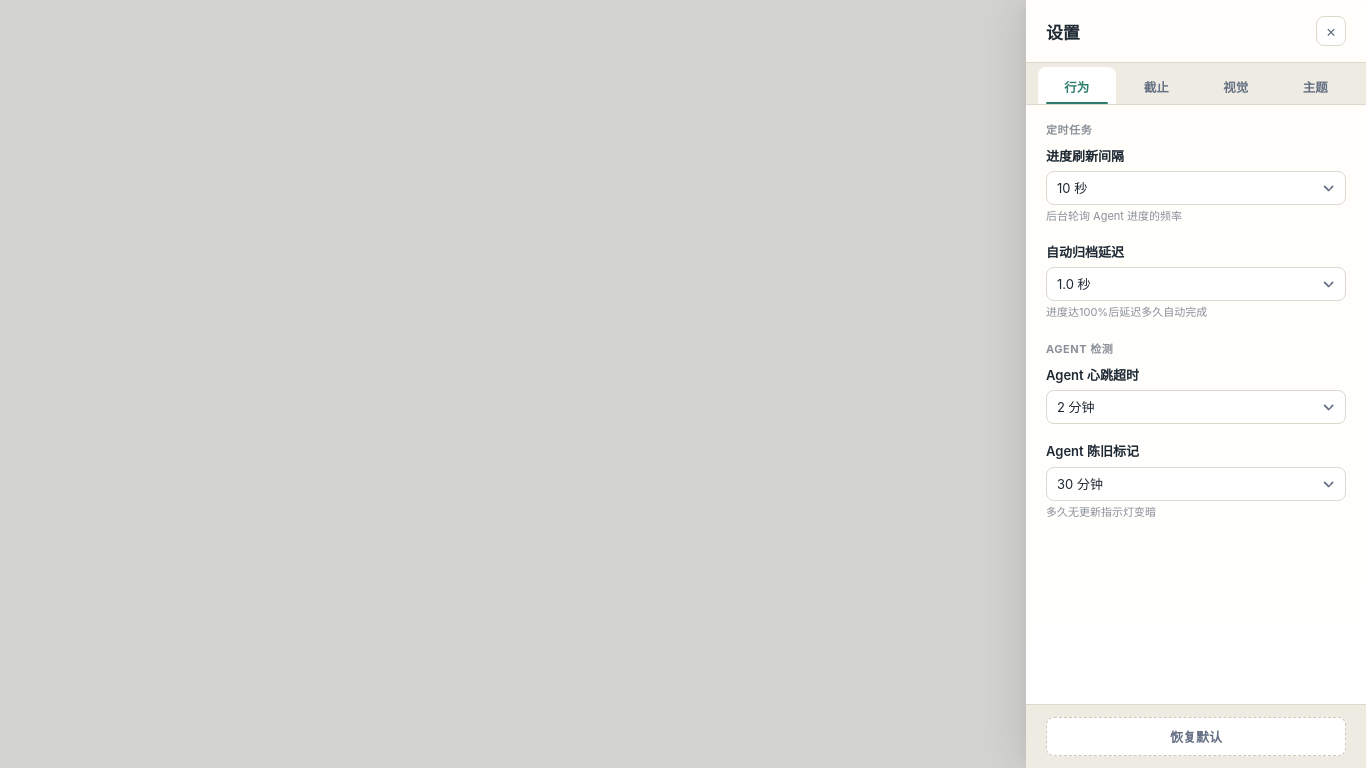
SettingsDrawer › switches tabs on click
Expected: the text "进度刷新间隔" is shown, [1046,148,1124,164]
Click the button "截止". click: (1156, 86)
box: [1118,67,1195,104]
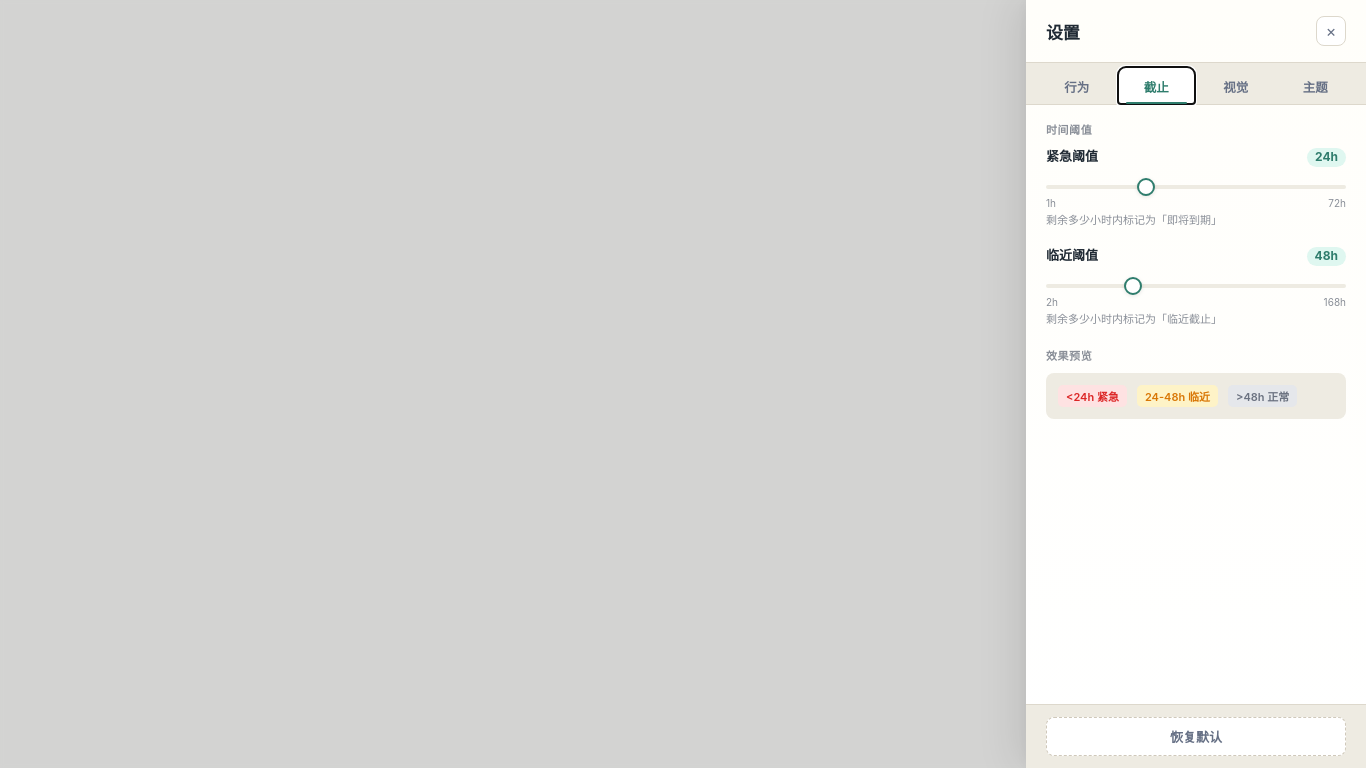
Now the text "紧急阈值" is shown, box [1046,148,1098,164]
Click the button "视觉". click: (1236, 86)
box: [1197,67,1274,104]
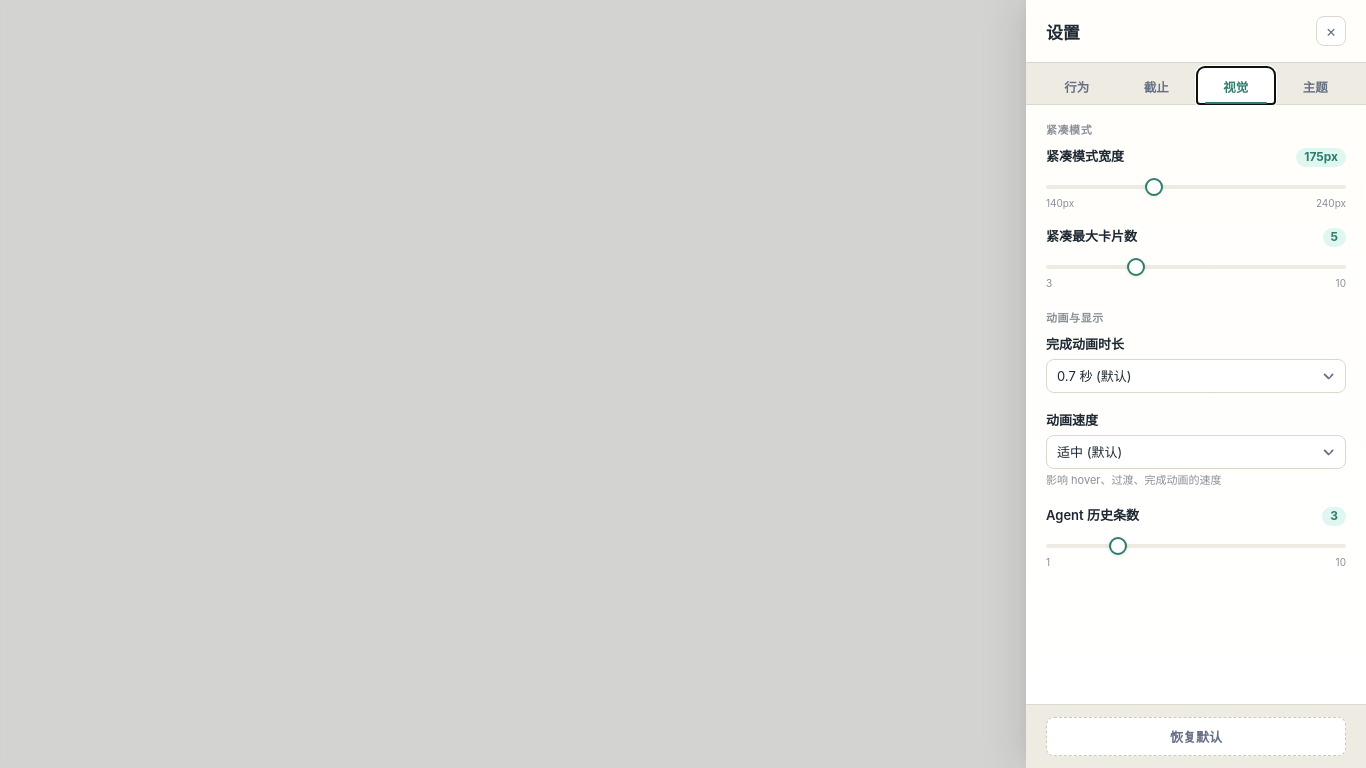
Now the text "紧凑模式宽度" is shown, box [1046,148,1124,164]
Click the button "主题". click: (1315, 86)
box: [1276,67,1354,104]
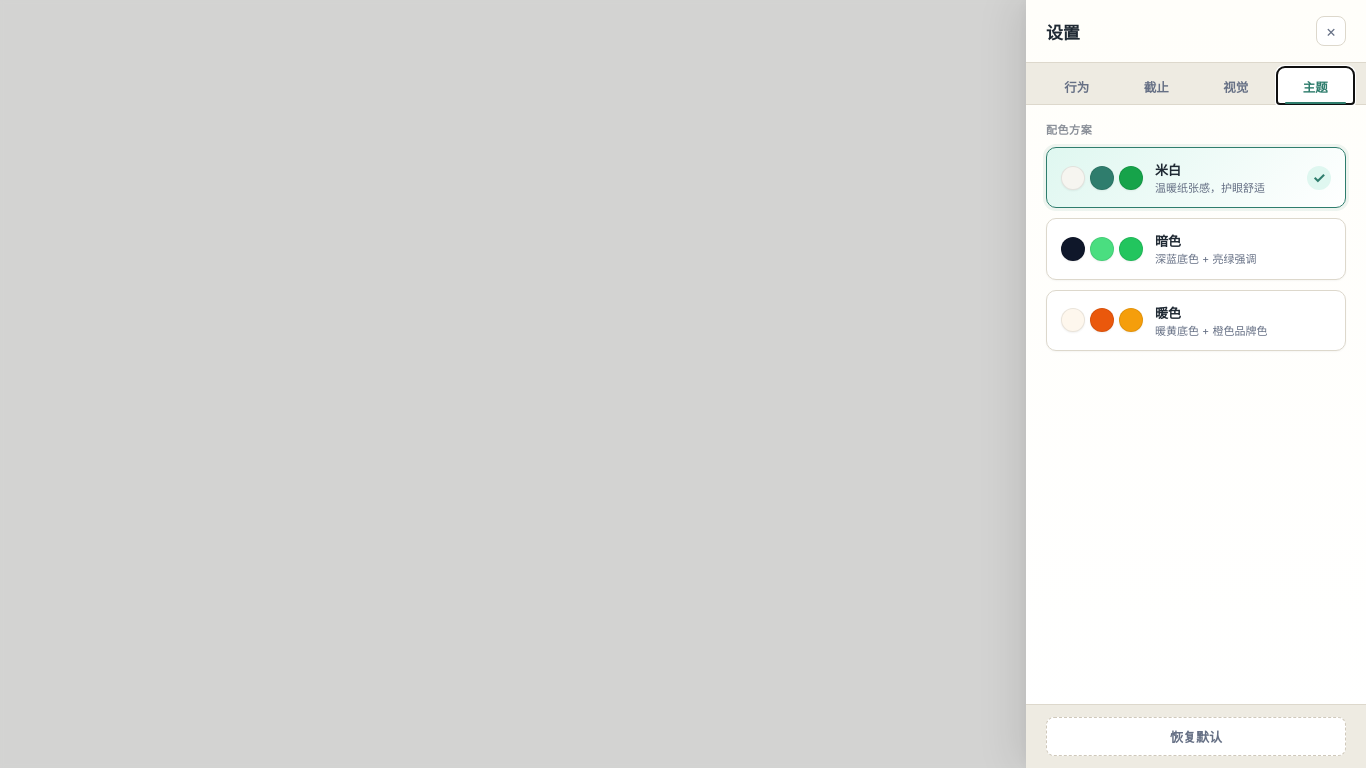
Now the text "米白" is shown, box [1155,162,1181,178]
